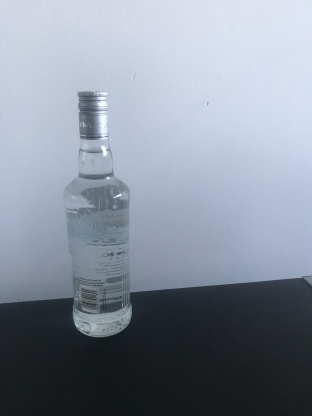nakretka: (75, 88, 111, 141)
